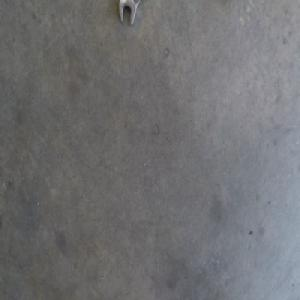Wrench: (117, 0, 142, 26)
